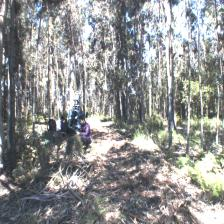trunktrack_idkeyframe: (7, 62, 15, 166), (168, 77, 174, 148)
